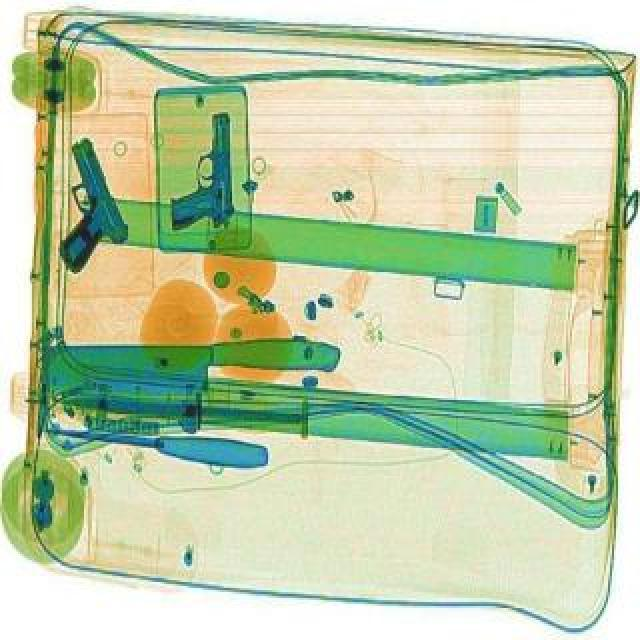gun: (20, 140, 136, 282), (164, 116, 234, 234)
knife: (40, 340, 340, 400), (40, 418, 268, 476), (56, 392, 300, 432)
